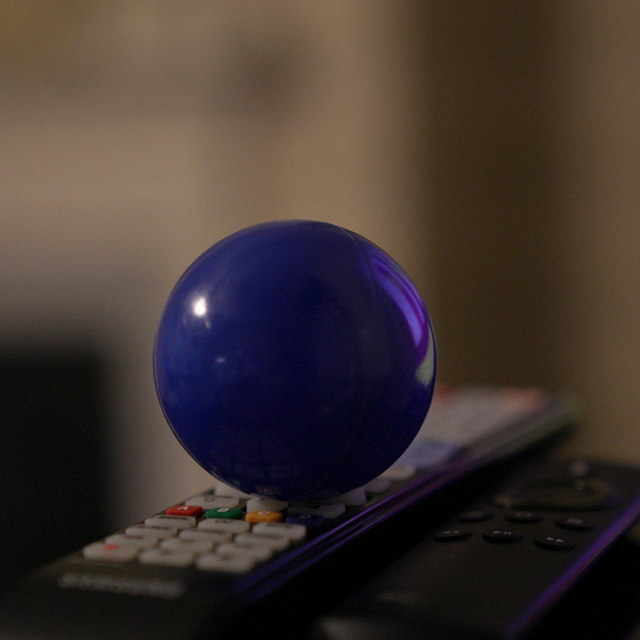Ball: (152, 217, 438, 500)
